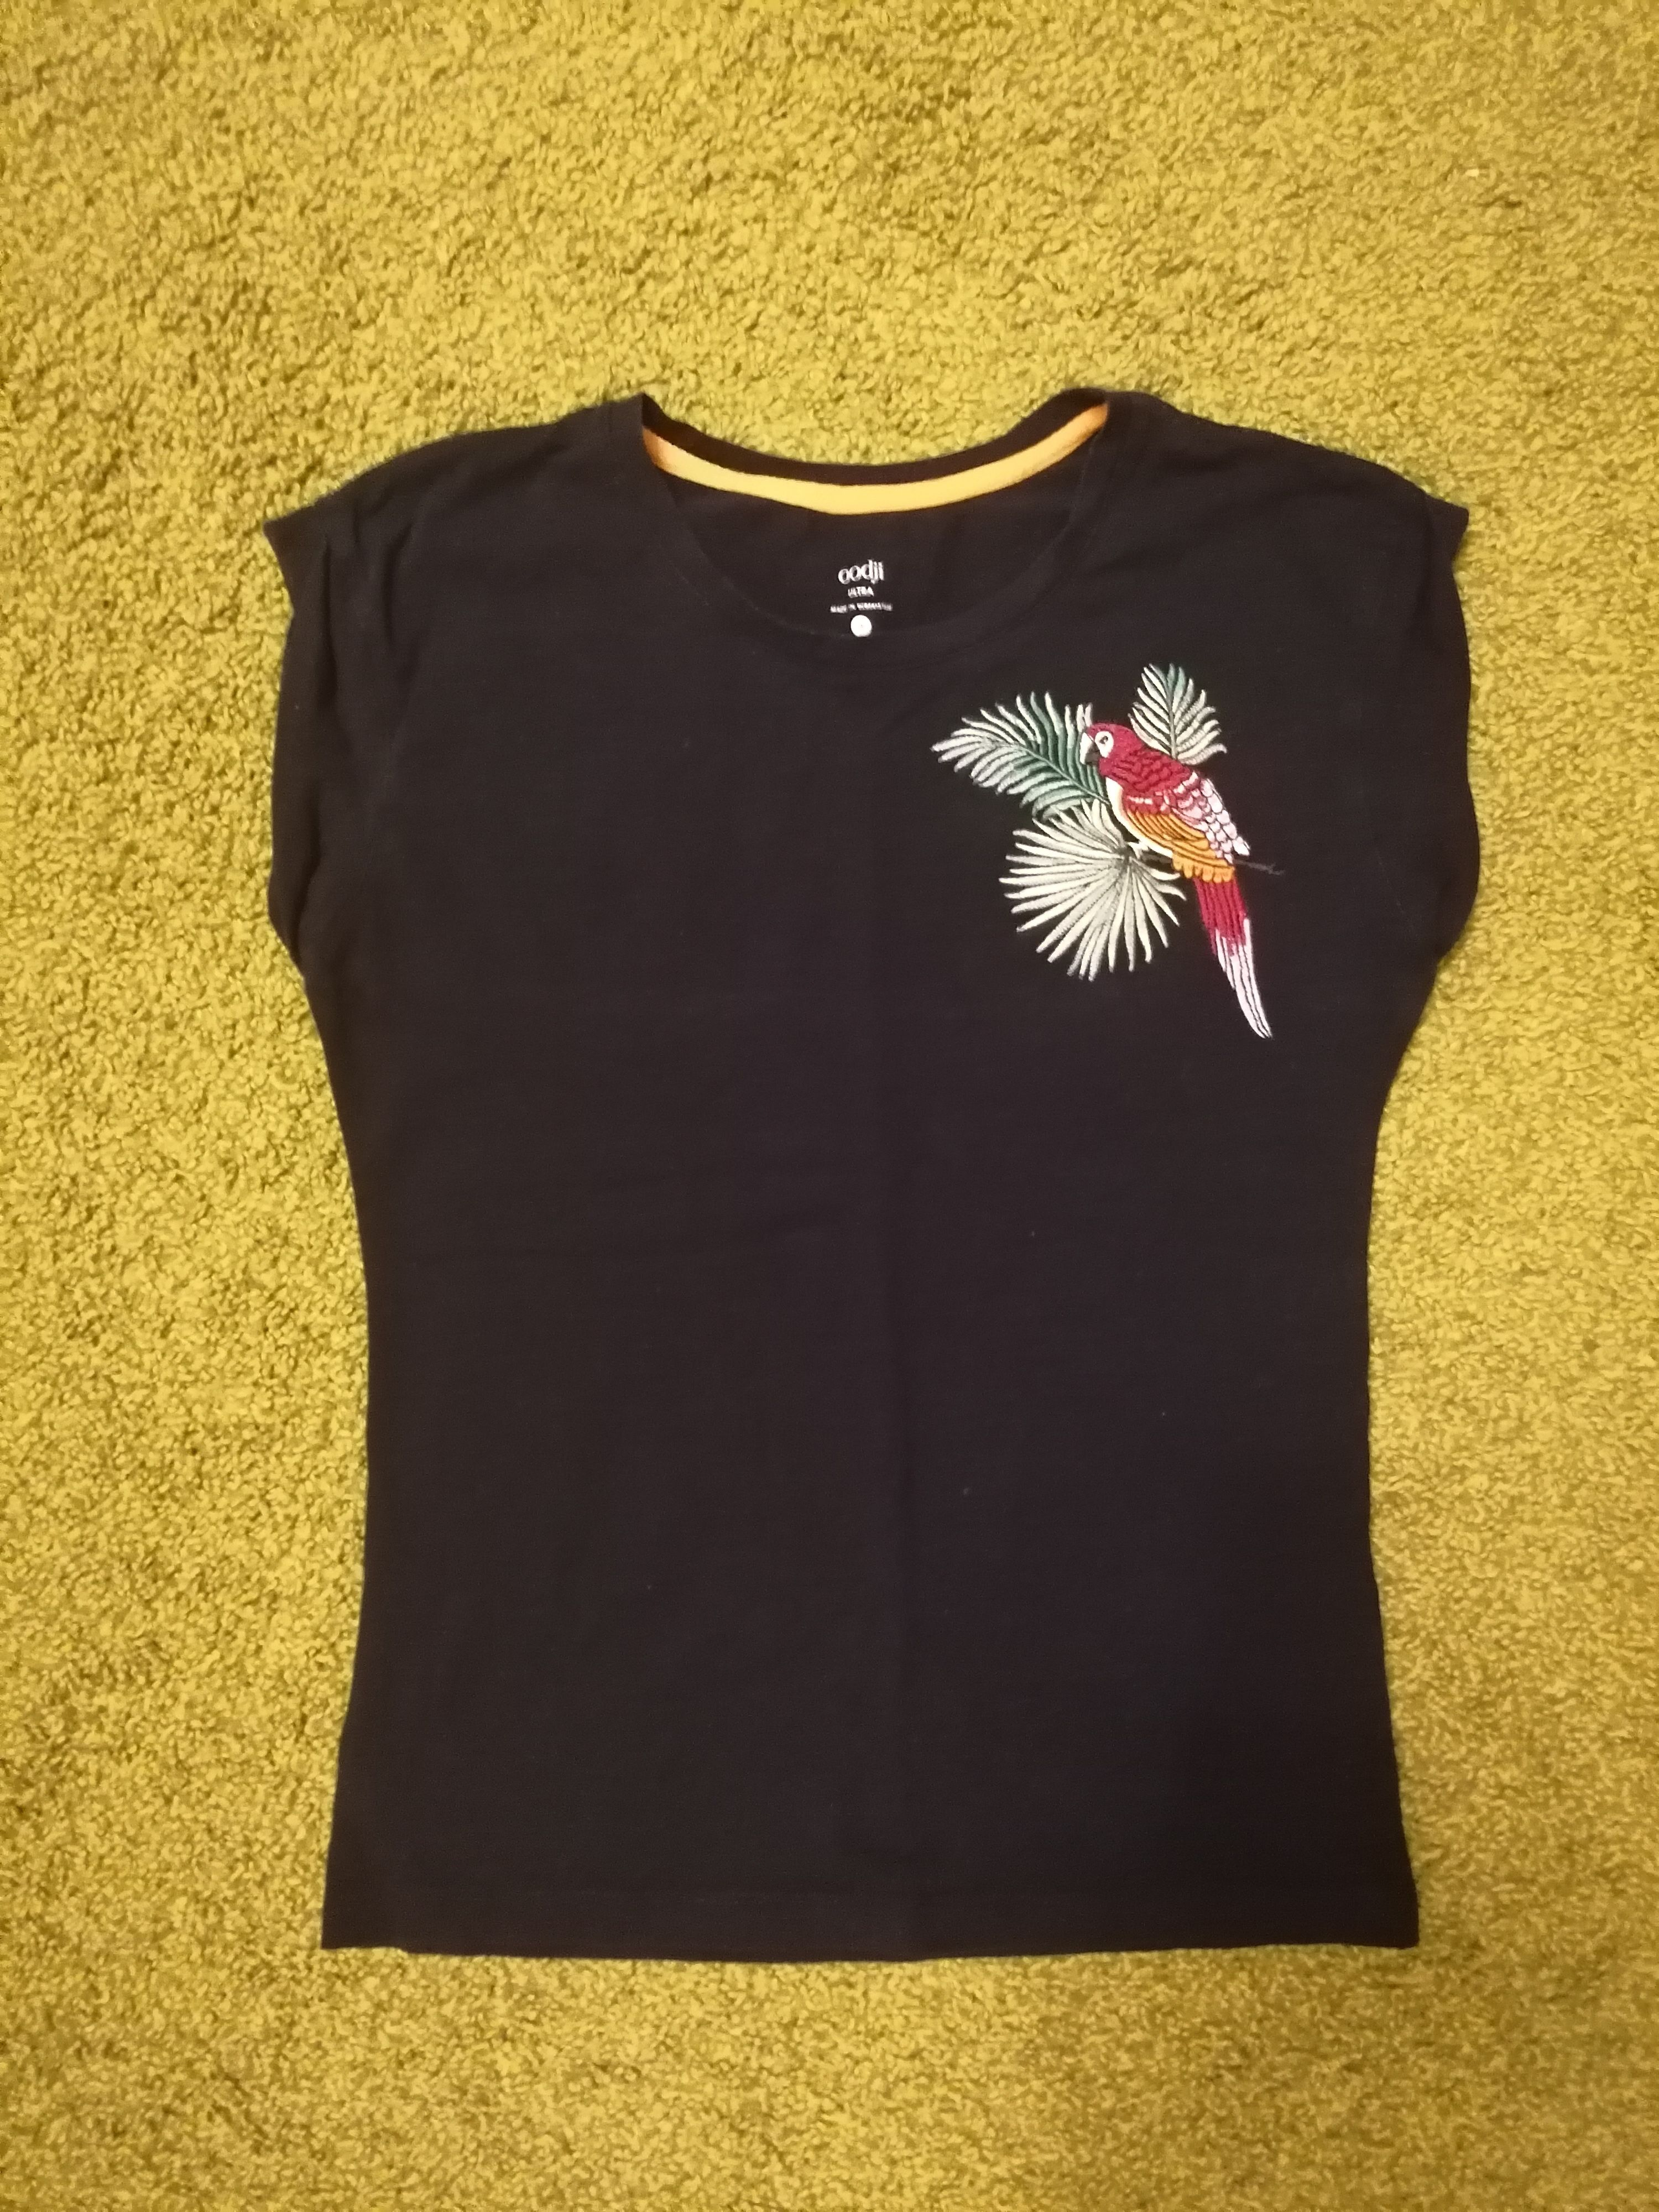clothes: (225, 369, 1480, 1973)
